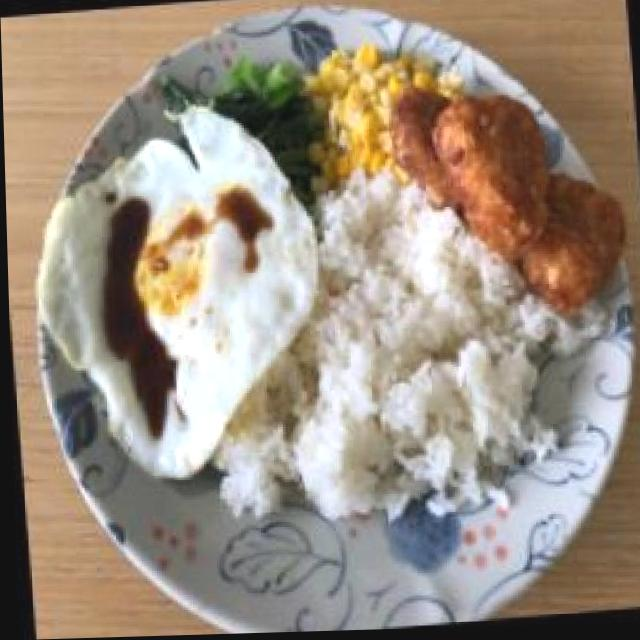fried_eggs: (20, 98, 332, 490)
rice: (282, 201, 547, 527)
triangle_hash_brown: (385, 75, 631, 331)
